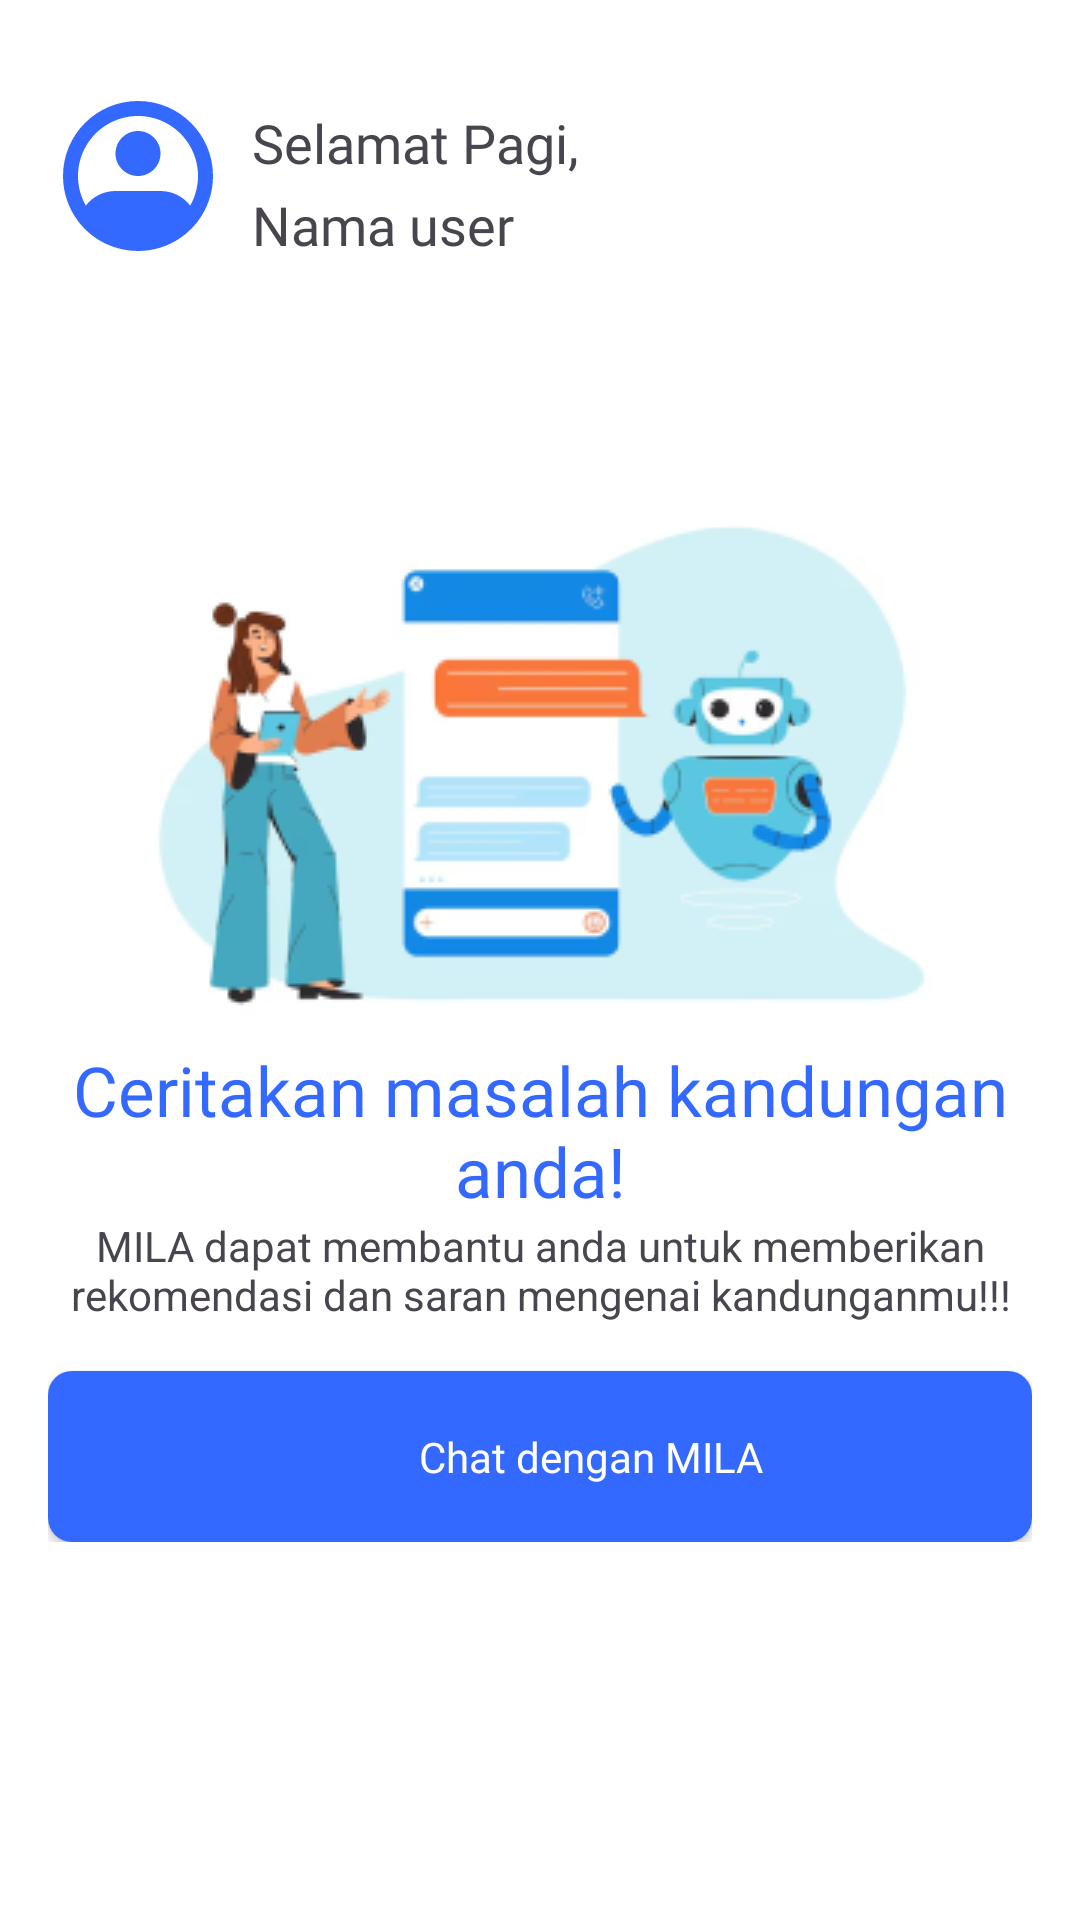

Screen size 1080px x 1920px. Icon name, then its center in pixels as point (x, y):
iconamoon profile circle: point (138, 176)
